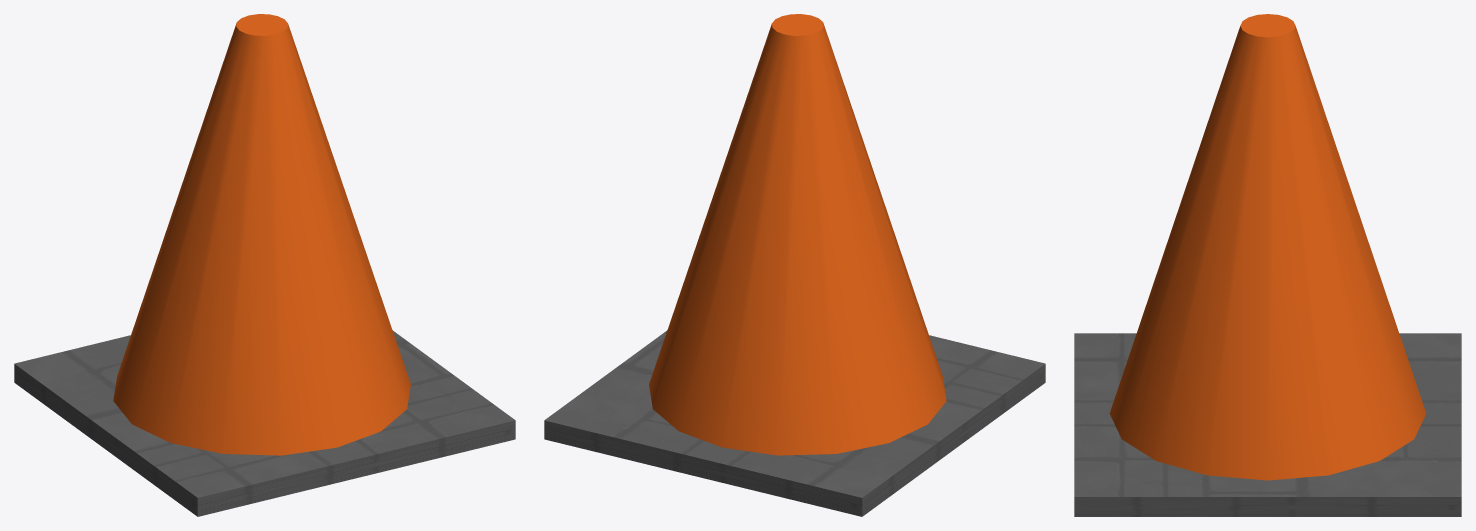
Rendered from Obstacle_RoadWorks_Cone.fbx.
3 views of the same model, side by side, from view 1: azimuth 30°, elevation 25°; view 2: azimuth 150°, elevation 25°; view 3: azimuth 270°, elevation 25° (orthographic). The views are drawn at different scales.
Visible parts, largest first — view 1: Obstacle_Roadworks_Cone; view 2: Obstacle_Roadworks_Cone; view 3: Obstacle_Roadworks_Cone.
Part boxes in pixels (x1,y1,x2,y2): Obstacle_Roadworks_Cone: [14, 14, 515, 516]; Obstacle_Roadworks_Cone: [544, 14, 1045, 516]; Obstacle_Roadworks_Cone: [1074, 14, 1461, 516].
Size of the model in its own units: 14.98 by 14.98 by 17.41.
